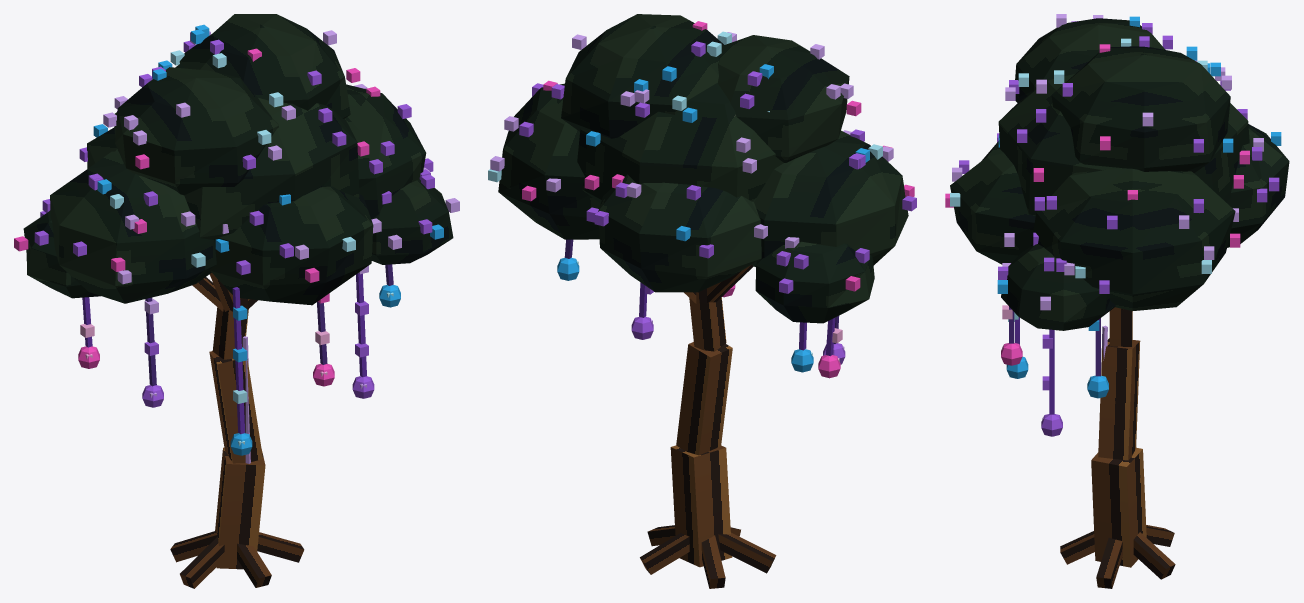
The model's file is lumen_tree_small.glb.
The picture shows the model from 3 angles, left to right: view 1: azimuth 30°, elevation 25°; view 2: azimuth 150°, elevation 25°; view 3: azimuth 270°, elevation 25°; orthographic projection. The views are drawn at different scales.
Visible parts, largest first — view 1: lumen_tree_small; view 2: lumen_tree_small; view 3: lumen_tree_small.
Boxes of the visible parts, bbox=[...] form: lumen_tree_small: bbox=[14, 14, 459, 588]; lumen_tree_small: bbox=[488, 14, 916, 588]; lumen_tree_small: bbox=[945, 14, 1289, 588].
Bounding box in the file's own units: 2.06 × 2.77 × 1.64.
Materials: 3 (2 with a texture image).
